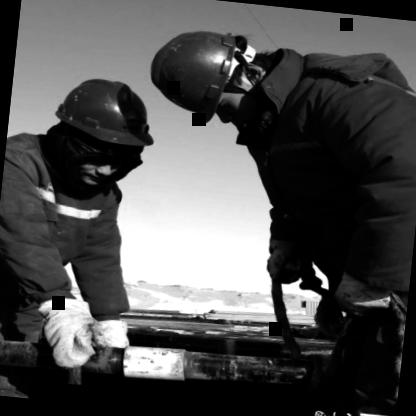helmet: (37, 64, 170, 194), (136, 16, 266, 127)
